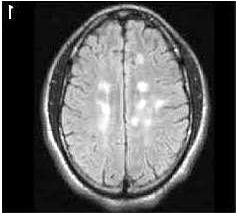Normal_Brain: (2, 4, 236, 213)
